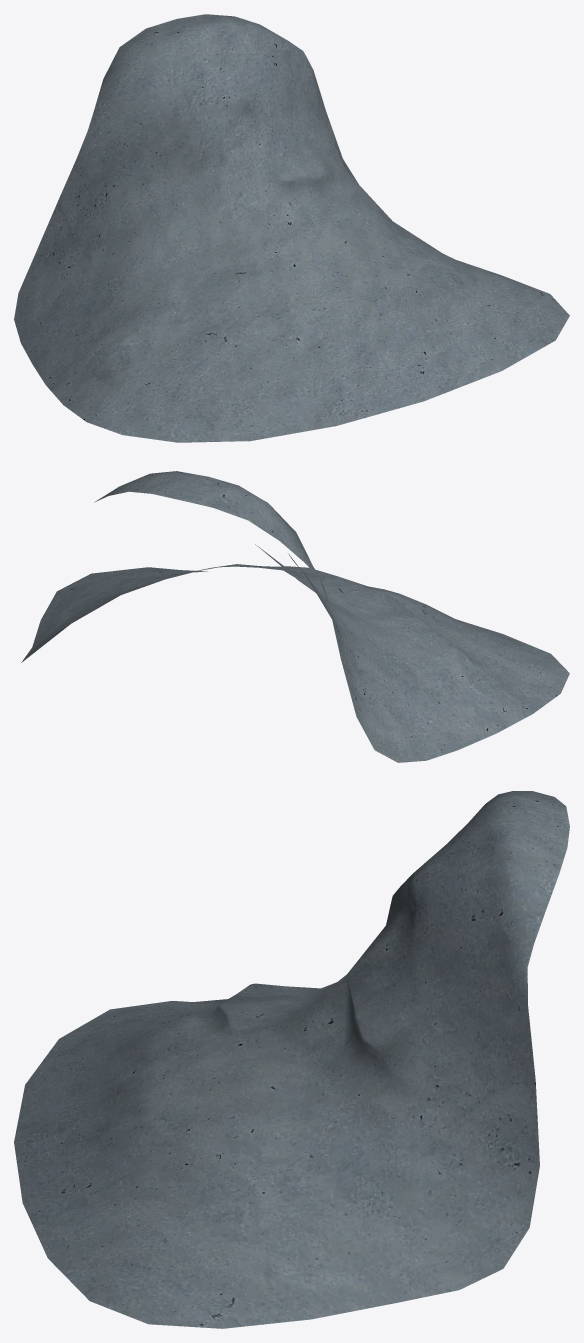
File: tesv_snowdrifitl04int-transformed.glb
3 views of the same model, one above another, from view 1: azimuth 30°, elevation 25°; view 2: azimuth 150°, elevation 25°; view 3: azimuth 270°, elevation 25° (orthographic). The views are drawn at different scales.
Parts seen in each view (by area): view 1: snowdrifti04int; view 2: snowdrifti04int; view 3: snowdrifti04int.
Part boxes in pixels (bbox=[...]): snowdrifti04int: bbox=[14, 14, 569, 442]; snowdrifti04int: bbox=[21, 471, 569, 762]; snowdrifti04int: bbox=[14, 791, 569, 1328].
Size of the model in its own units: 14.26 by 7.24 by 10.34.
1 material, 1 textured.
